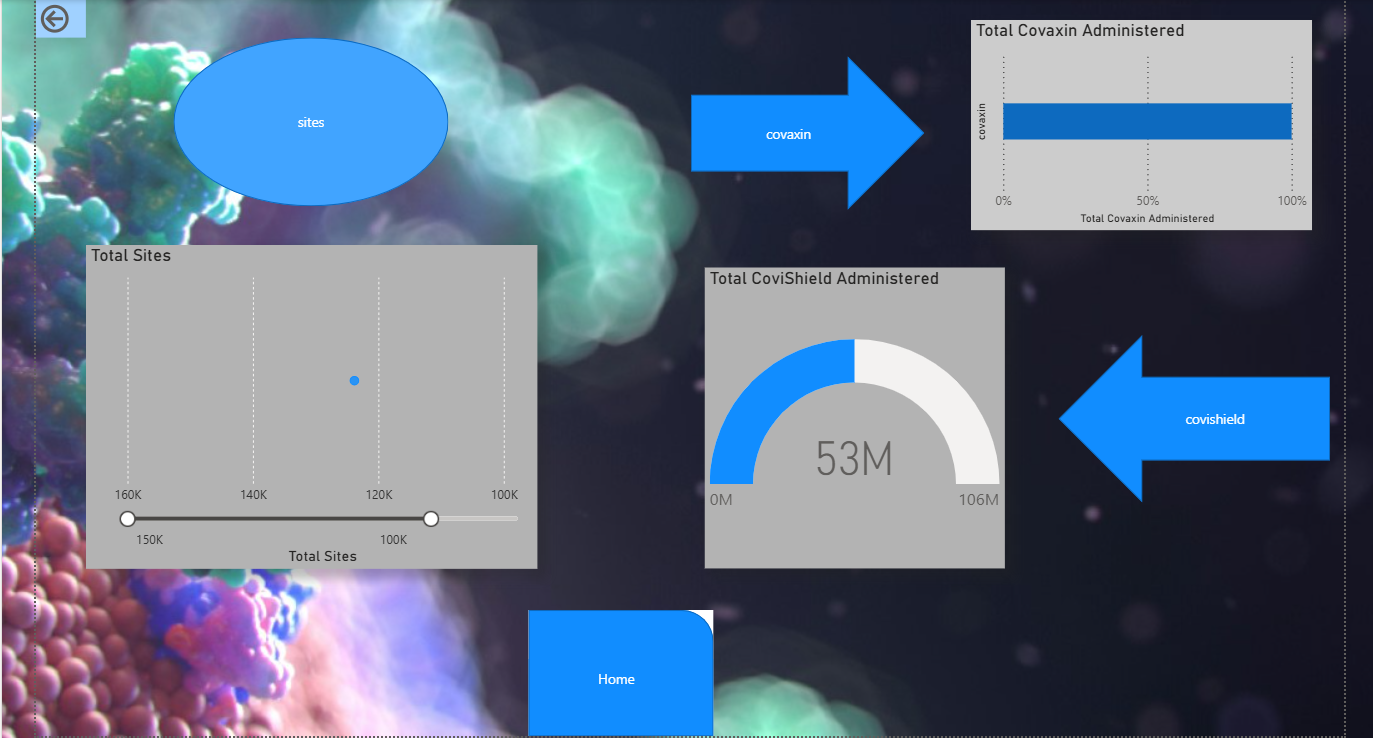

The page's visual inventory and layout, read from the dashboard file:
{"tool":"powerbi","page":{"name":"Page 1","canvas":[1280,720],"ordinal":2},"visuals":[{"type":"actionButton","box":[0,0,48.9,36.7],"z":0},{"type":"shape","box":[134.5,36.7,269,165.1],"z":1000},{"type":"shape","box":[640.5,54.6,228.4,150.2],"z":2000},{"type":"scatterChart","fields":{"X":["Sum(covid_vaccine_statewise.Total Sites )"]},"box":[48.9,239.7,441.4,316.7],"z":3000},{"type":"shape","box":[1000.5,327.7,265.6,163.8],"z":4000},{"type":"hundredPercentStackedBarChart","fields":{"Y":["Sum(covid_vaccine_statewise.Total Covaxin Administered)"]},"box":[914.7,19.6,333.8,205.4],"z":5000},{"type":"gauge","fields":{"Y":["Sum(covid_vaccine_statewise.Total CoviShield Administered)"]},"box":[654.2,261.7,293.5,294.7],"z":6000},{"type":"shape","box":[481.8,596.7,181,123.5],"z":7000}]}

Visuals, with their boxes on the page's 1280x720 design canvas (x1, y1, x2, y2). These are canvas units, not pixel positions in the 1373x738 screenshot, which may show the page scaled, cropped or inside an application window:
actionButton: (0,0,49,37)
shape: (134,37,404,202)
shape: (640,55,869,205)
scatterChart - Sum(covid_vaccine_statewise.Total Sites ): (49,240,490,556)
shape: (1000,328,1266,492)
hundredPercentStackedBarChart - Sum(covid_vaccine_statewise.Total Covaxin Administered): (915,20,1248,225)
gauge - Sum(covid_vaccine_statewise.Total CoviShield Administered): (654,262,948,556)
shape: (482,597,663,720)
